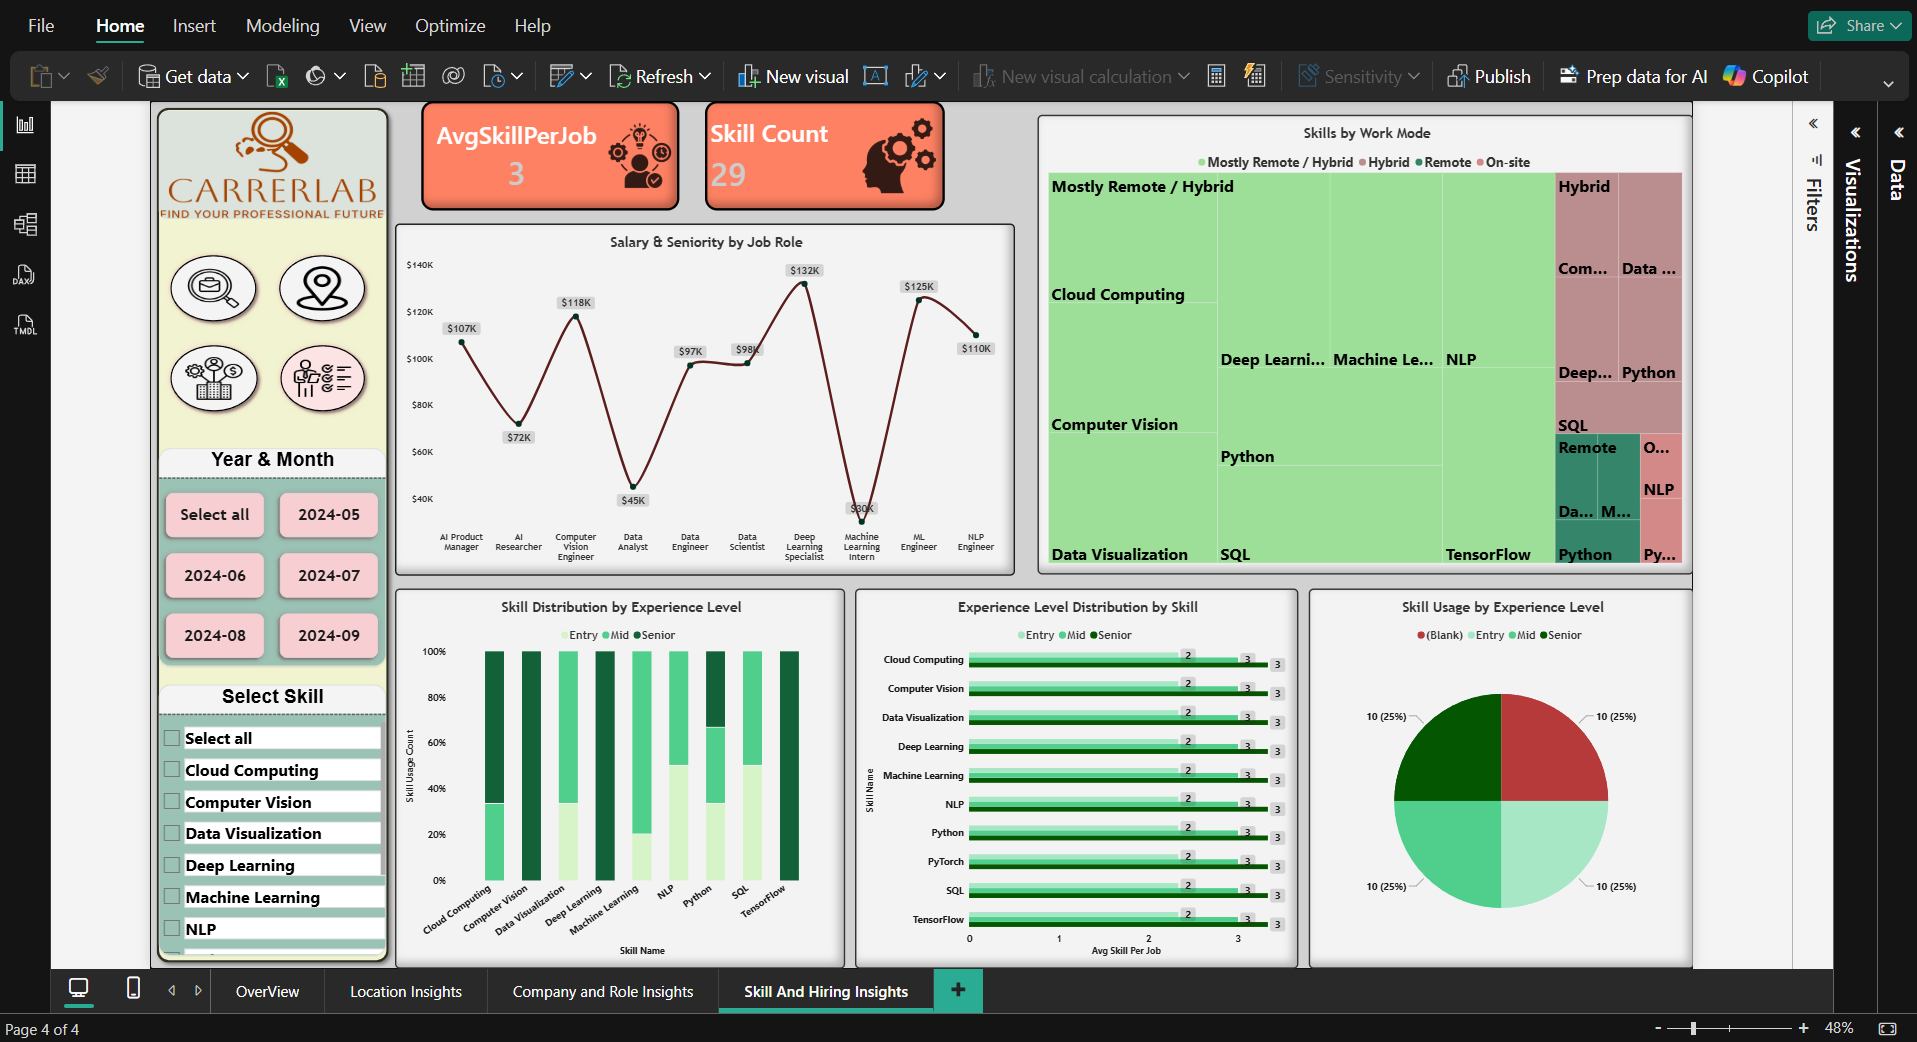

Layout of this report page (visuals, bound fields, positions):
{"tool":"powerbi","page":{"name":"Skill And Hiring Insights","canvas":[2560,1440],"ordinal":3},"visuals":[{"type":"shape","box":[0,0,407,1439.5],"z":0},{"type":"slicer","title":"Select Skill","fields":{"Values":["Dim_Skills.Skill_Name"]},"box":[14,967.4,376.7,448.8],"z":1000},{"type":"advancedSlicerVisual","title":"Year & Month","fields":{"Values":["Dim_Date.YearMonth"]},"box":[14,576.7,376.7,360.5],"z":2000},{"type":"hundredPercentStackedColumnChart","title":"Skill Distribution by Experience Level","fields":{"Category":["Dim_Skills.Skill_Name"],"Series":["Fact_Jobs.Experience_Level"],"Y":["Dim_Skills.SkillUsageCount"]},"box":[407,809.3,746.5,630.2],"z":3000},{"type":"treemap","title":"Skills by Work Mode","fields":{"Details":["Dim_Skills.Skill_Name"],"Group":["Fact_Jobs.IsRemote"],"Values":["Sum(Fact_Jobs.Salary_USD)"]},"box":[1472.1,23.3,1088.4,762.8],"z":4000},{"type":"lineChart","title":"Salary & Seniority by Job Role","fields":{"Category":["Fact_Jobs.Job_Title"],"Y":["Fact_Jobs.AvgSalaryByExperience"]},"box":[407,202.3,1027.9,583.7],"z":5000},{"type":"cardVisual","title":"Total Jobs","fields":{"Data":["Sum(Fact_Jobs.SkillCount)"]},"box":[920.9,0,397.7,181.4],"z":6000},{"type":"clusteredBarChart","title":"Experience Level Distribution by Skill","fields":{"Category":["Dim_Skills.Skill_Name"],"Series":["Fact_Jobs.Experience_Level"],"Y":["Fact_Job_Skills.AvgSkillPerJob"]},"box":[1169.8,809.3,734.9,630.2],"z":7000},{"type":"pieChart","title":"Skill Usage by Experience Level","fields":{"Category":["Fact_Jobs.Experience_Level"],"Y":["CountNonNull(Dim_Skills.Skill_Name)"]},"box":[1920.9,809.3,639.5,630.2],"z":8000},{"type":"cardVisual","title":"Avg Salary","fields":{"Data":["Fact_Job_Skills.AvgSkillPerJob"]},"box":[448.8,0,427.9,181.4],"z":9000},{"type":"actionButton","box":[25.6,246.5,160.5,127.9],"z":10000},{"type":"actionButton","box":[204.7,246.5,160.5,127.9],"z":11000},{"type":"actionButton","box":[25.6,395.3,162.8,127.9],"z":12000},{"type":"actionButton","box":[207,395.3,158.1,127.9],"z":13000},{"type":"textbox","box":[1319,0,150,181],"z":14000},{"type":"textbox","box":[24,48,360,144],"z":15000}]}

Visuals, with their boxes on the page's 2560x1440 design canvas (x1, y1, x2, y2). These are canvas units, not pixel positions in the 1917x1042 screenshot, which may show the page scaled, cropped or inside an application window:
shape: crop(0, 0, 407, 1440)
"Select Skill" slicer: crop(14, 967, 391, 1416)
"Year & Month" advancedSlicerVisual: crop(14, 577, 391, 937)
"Skill Distribution by Experience Level" hundredPercentStackedColumnChart: crop(407, 809, 1154, 1440)
"Skills by Work Mode" treemap: crop(1472, 23, 2560, 786)
"Salary & Seniority by Job Role" lineChart: crop(407, 202, 1435, 786)
"Total Jobs" cardVisual: crop(921, 0, 1319, 181)
"Experience Level Distribution by Skill" clusteredBarChart: crop(1170, 809, 1905, 1440)
"Skill Usage by Experience Level" pieChart: crop(1921, 809, 2560, 1440)
"Avg Salary" cardVisual: crop(449, 0, 877, 181)
actionButton: crop(26, 246, 186, 374)
actionButton: crop(205, 246, 365, 374)
actionButton: crop(26, 395, 188, 523)
actionButton: crop(207, 395, 365, 523)
textbox: crop(1319, 0, 1469, 181)
textbox: crop(24, 48, 384, 192)
